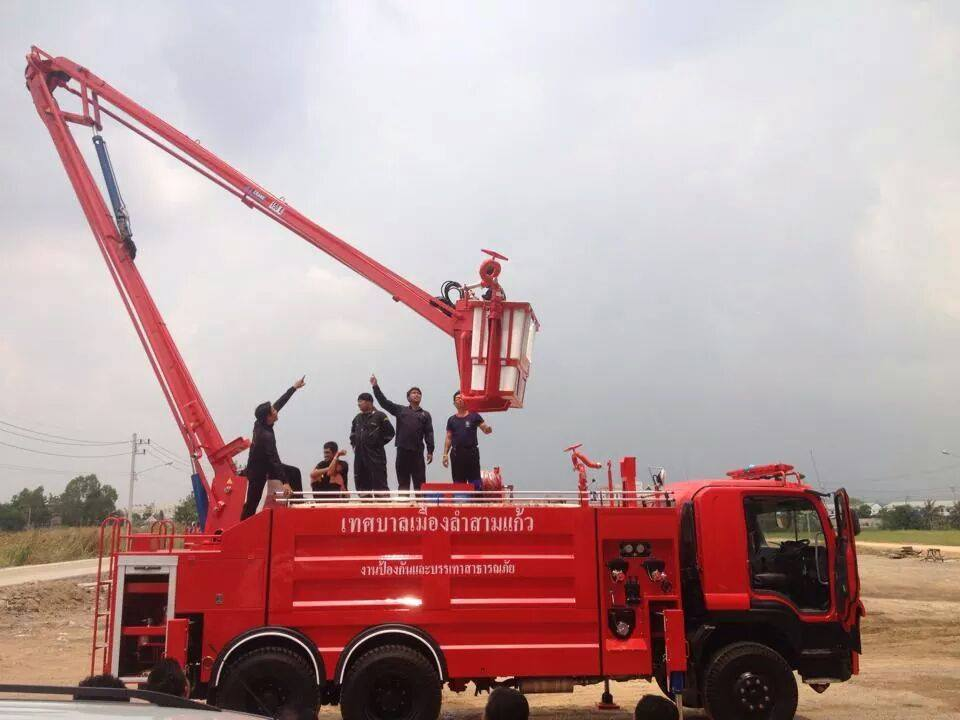truck: (85, 469, 860, 706)
